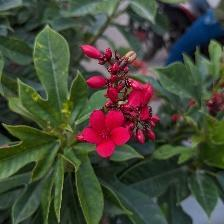jatropha: (82, 105, 132, 157)
